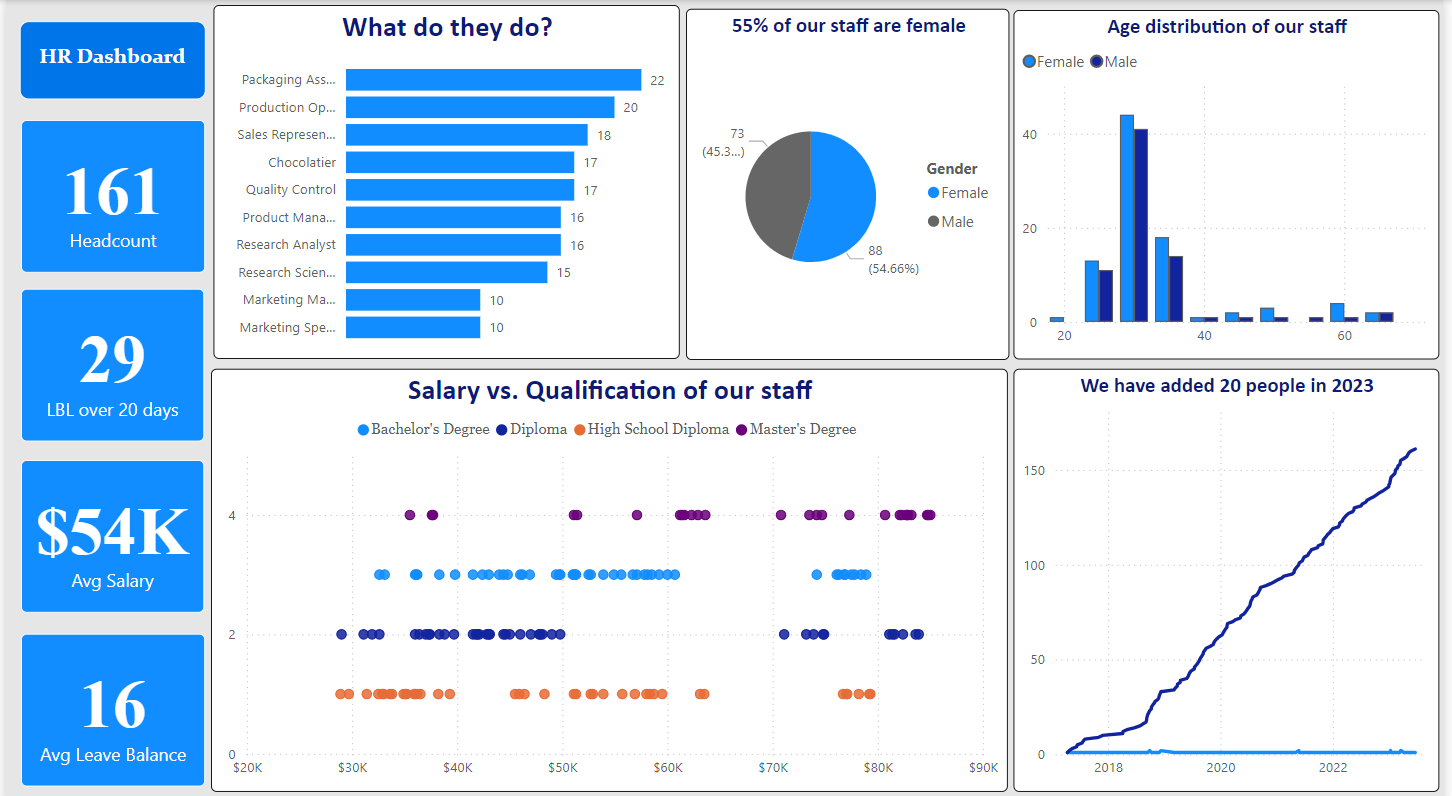

Layout of this report page (visuals, bound fields, positions):
{"tool":"powerbi","page":{"name":"Page 10","canvas":[1280,720],"ordinal":9},"visuals":[{"type":"card","fields":{"Values":["staff.Headcount"]},"box":[13.3,107.4,164.1,136.3],"z":0},{"type":"card","fields":{"Values":["staff.LBL over 20 days"]},"box":[13.3,257,162.9,136.3],"z":1000},{"type":"card","fields":{"Values":["staff.Avg Salary"]},"box":[13.3,410.2,162.9,136.3],"z":2000},{"type":"card","fields":{"Values":["staff.Avg Leave Balance"]},"box":[13.3,564.6,164.1,136.3],"z":3000},{"type":"clusteredBarChart","title":"What do they do?","fields":{"Category":["staff.Job Title"],"Y":["staff.Headcount"]},"box":[184.6,4.8,415,314.9],"z":4000},{"type":"pieChart","title":"55% of our staff are female","fields":{"Category":["staff.Gender"],"Y":["staff.Headcount"]},"box":[605.6,7.2,288.3,312.5],"z":5000},{"type":"clusteredColumnChart","title":"Age distribution of our staff","fields":{"Category":["staff.Age (bins)"],"Y":["staff.Headcount"],"Series":["staff.Gender"]},"box":[897.6,8.4,378.8,311.3],"z":6000},{"type":"scatterChart","title":"Salary vs. Qualification of our staff","fields":{"X":["staff.Salary"],"Y":["qual.Qualification Id"],"Series":["qual.Qualification"]},"box":[182.2,328.2,709.4,376.4],"z":7000},{"type":"lineChart","title":"We have added 20 people in 2023","fields":{"Y":["staff.Headcount","staff.Cumulative Headcount"],"Category":["staff.Date of Join"]},"box":[897.6,328.2,378.8,376.4],"z":8000},{"type":"textbox","box":[12.1,19.3,165.3,70],"z":9000}]}

Visuals, with their boxes in screenshot pixels (x1, y1, x2, y2), scaled from the page's 1280x720 canvas onto the 1452x796 screenshot:
card - staff.Headcount: detection(15, 119, 201, 269)
card - staff.LBL over 20 days: detection(15, 284, 200, 435)
card - staff.Avg Salary: detection(15, 453, 200, 604)
card - staff.Avg Leave Balance: detection(15, 624, 201, 775)
"What do they do?" clusteredBarChart: detection(209, 5, 680, 353)
"55% of our staff are female" pieChart: detection(687, 8, 1014, 353)
"Age distribution of our staff" clusteredColumnChart: detection(1018, 9, 1448, 353)
"Salary vs. Qualification of our staff" scatterChart: detection(207, 363, 1011, 779)
"We have added 20 people in 2023" lineChart: detection(1018, 363, 1448, 779)
textbox: detection(14, 21, 201, 99)
